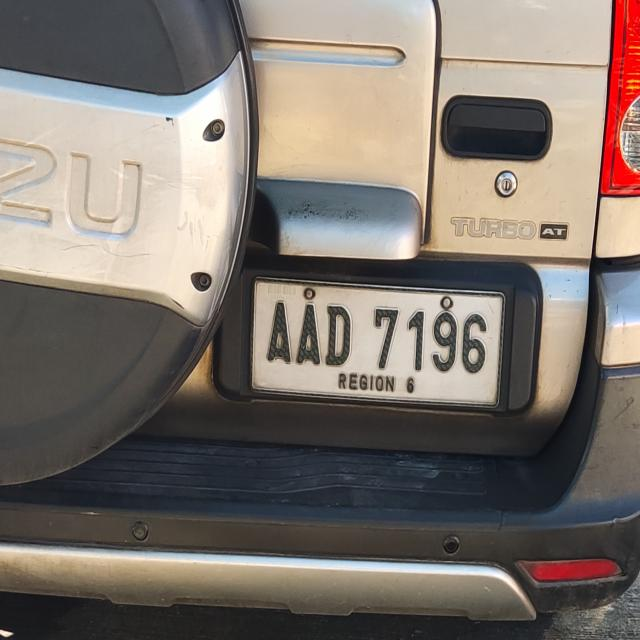plate: (246, 269, 508, 416)
